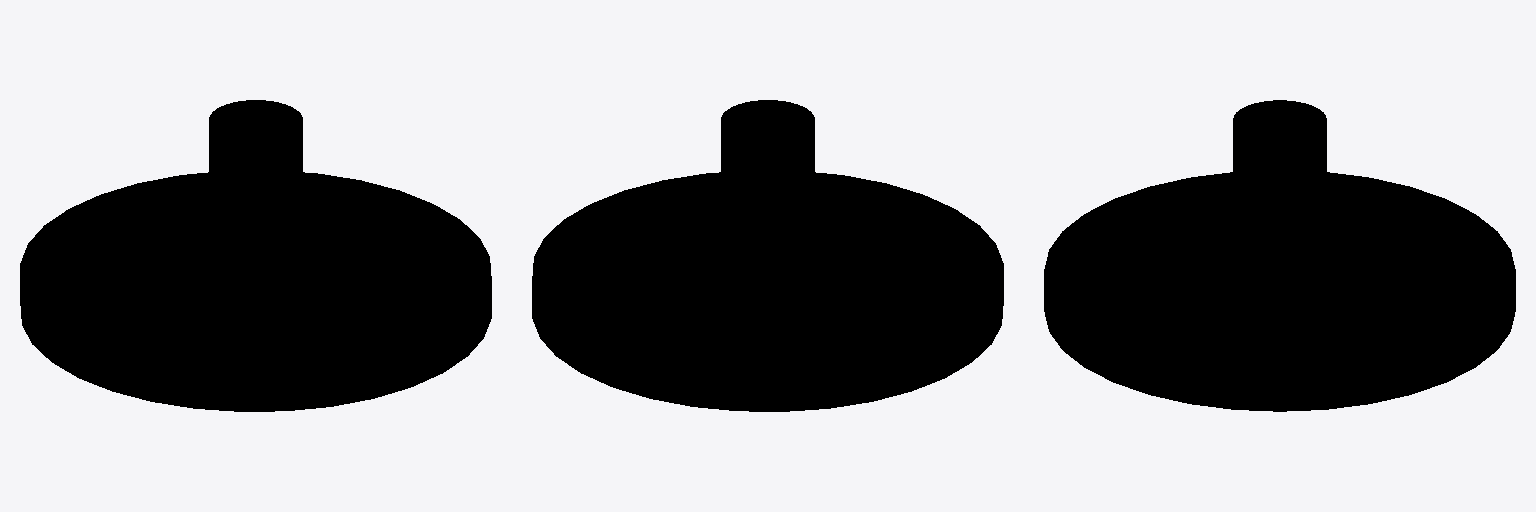
The robot description file, URDF, robot "support":
<?xml version="1.0"?>
<robot 
     xmlns:xacro="http://www.ros.org/wiki/xacro" name="support">

  
<link name="support_body">
  
<visual>
      <origin xyz="0 0 0.2" rpy="0 0 0"/>
   <geometry>
     <cylinder length="0.4" radius="0.1"/>
   </geometry>
   <material name="black">
     <color rgba="0 0 0 100"/>
   </material>
  </visual>
   
 <collision>
      <origin xyz="0 0 0.2" rpy="0 0 0"/>
      <geometry>
     <cylinder length="0.4" radius="0.1"/>
      </geometry>
    </collision>

<inertial>
      <origin xyz="0 0 0" rpy="0 0 0"/>
      <mass value="10"/>
      <inertia
        ixx="0.01" ixy="0.0" ixz="0.0"
        iyy="0.01" iyz="0.0"
        izz="0.01"/>
    </inertial>
</link>
  <gazebo reference="support_body">
    <material>Gazebo/Blue</material>
    <mu1 value="2000"/>
    <mu2 value="2000"/>
  </gazebo>

<link name="support_body2">
  
<visual>
      <origin xyz="0 0 0" rpy="0 0 0"/>
   <geometry>
     <cylinder length="0.1" radius="0.5"/>
   </geometry>
   <material name="black">
     <color rgba="0 0 0 100"/>
   </material>
  </visual>
   
 <collision>
      <origin xyz="0 0 0" rpy="0 0 0"/>
      <geometry>
     <cylinder length="0.1" radius="0.5"/>
      </geometry>
    </collision>

<inertial>
      <origin xyz="0 0 0" rpy="0 0 0"/>
      <mass value="10"/>
      <inertia
        ixx="0.01" ixy="0.0" ixz="0.0"
        iyy="0.01" iyz="0.0"
        izz="0.01"/>
    </inertial>
</link>
  <gazebo reference="support_body2">
    <material>Gazebo/Blue</material>
    <mu1 value="2000"/>
    <mu2 value="2000"/>
  </gazebo>

<joint name="support_body2" type="fixed">
  <axis xyz="0 0 1"/>
  <parent link="support_body"/>
  <child link="support_body2"/>
  <origin rpy="0 0 0" xyz="0 0 0"/>
</joint>



</robot>

--- What the picture shows (computed from the rendered views, not written in the file) ---
The picture shows the robot from 3 angles, left to right: view 1: azimuth 30°, elevation 25°; view 2: azimuth 150°, elevation 25°; view 3: azimuth 270°, elevation 25°; orthographic projection.
Robot: support — 2 links, 1 joints (1 fixed); root link support_body; default pose: all joints at 0.
Links seen in each view (by area): view 1: support_body2, support_body; view 2: support_body2, support_body; view 3: support_body2, support_body.
Boxes of the visible links, x1,y1,x2,y2 form: support_body2: (20, 172, 491, 411); support_body: (209, 100, 302, 289); support_body2: (532, 172, 1003, 411); support_body: (721, 100, 814, 289); support_body2: (1044, 172, 1515, 411); support_body: (1233, 100, 1326, 288).
Bounding box of the posed robot: 1 × 1 × 0.45 m (x, y, z).
Geometry: primitives only (box / cylinder / sphere), no mesh files.
